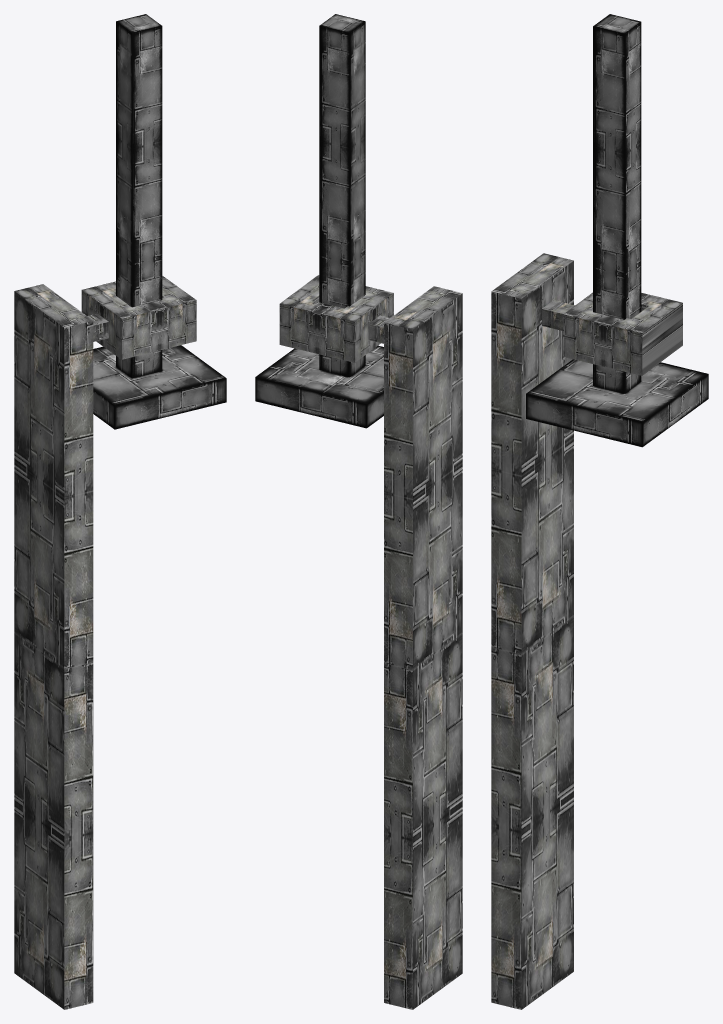
Rendered from VerticalObstacle.fbx.
3 renders of one model, left to right at view 1: azimuth 30°, elevation 25°; view 2: azimuth 150°, elevation 25°; view 3: azimuth 330°, elevation 25°, orthographic. The views are drawn at different scales.
Visible parts, largest first — view 1: Tube_1, Cube; view 2: Tube_1, Cube; view 3: Tube_1, Cube.
Part boxes in pixels (x1,y1,x2,y2): Tube_1: [14, 276, 196, 1009]; Cube: [93, 14, 226, 429]; Tube_1: [279, 275, 462, 1009]; Cube: [255, 14, 383, 428]; Tube_1: [491, 253, 682, 1009]; Cube: [526, 14, 708, 447].
Bounding box in the file's own units: 98.46 × 579 × 70.31.
Materials: 2 (2 with a texture image).
